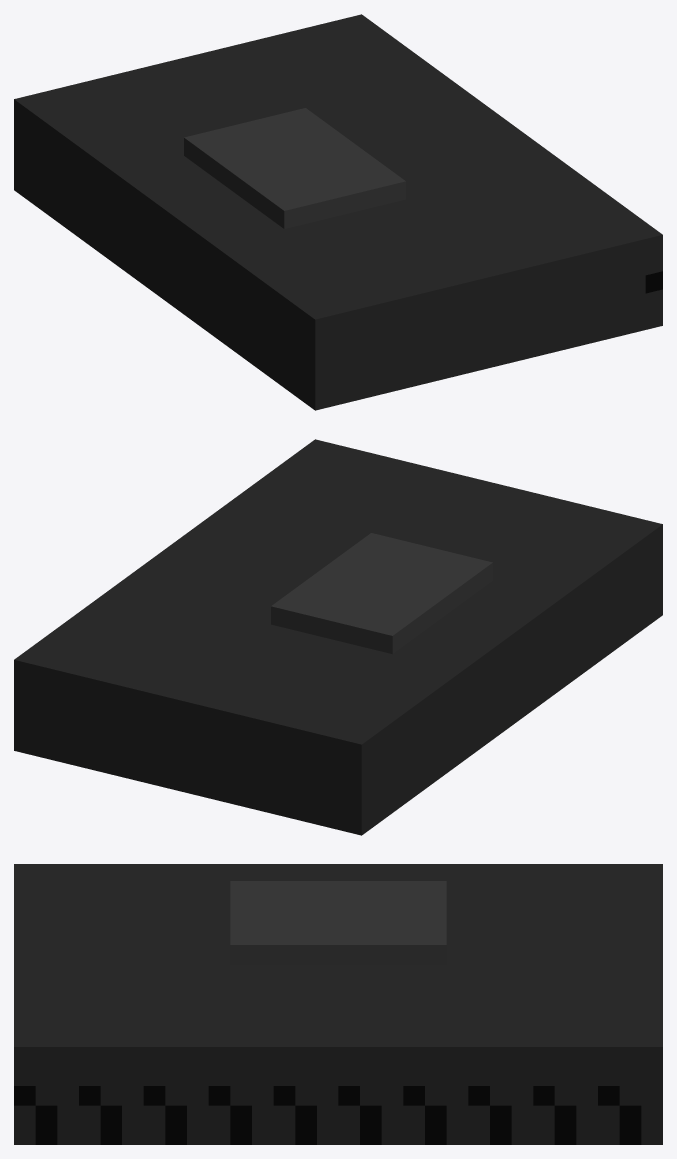
File: StageFlor.fbx
The picture shows the model from 3 angles, top to bottom: view 1: azimuth 30°, elevation 25°; view 2: azimuth 150°, elevation 25°; view 3: azimuth 270°, elevation 25°; orthographic projection. The views are drawn at different scales.
Parts seen in each view (by area): view 1: StageFlor; view 2: StageFlor; view 3: StageFlor.
Part boxes in pixels (x1,y1,x2,y2): StageFlor: (14, 14, 662, 410); StageFlor: (14, 439, 662, 835); StageFlor: (14, 864, 662, 1144).
Bounding box in the file's own units: 20 × 6 × 30.
Materials: 1 (1 with a texture image).
